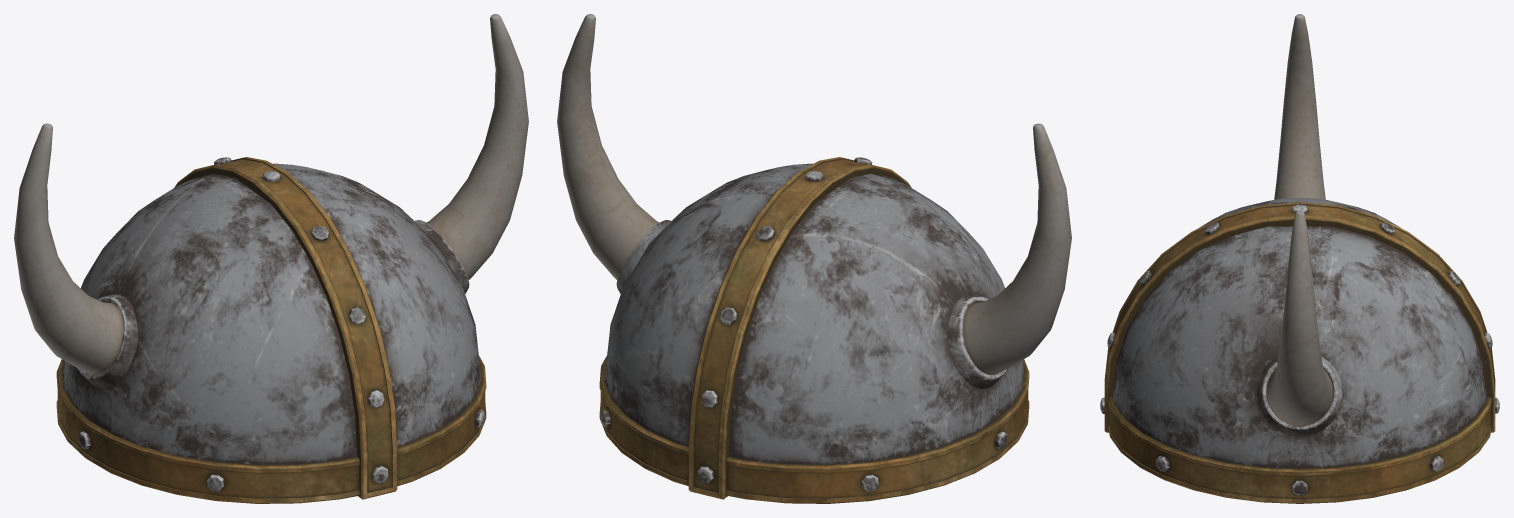
The model's file is viking_helmet.glb.
3 renders of one model, left to right at view 1: azimuth 30°, elevation 25°; view 2: azimuth 150°, elevation 25°; view 3: azimuth 270°, elevation 25°, orthographic. The views are drawn at different scales.
Visible parts, largest first — view 1: Helmet; view 2: Helmet; view 3: Helmet.
Boxes of the visible parts, bbox=[...] form: Helmet: bbox=[14, 14, 528, 503]; Helmet: bbox=[557, 14, 1071, 503]; Helmet: bbox=[1100, 14, 1499, 503].
Bounding box in the file's own units: 2.81 × 1.83 × 2.12.
1 material, 1 textured.
